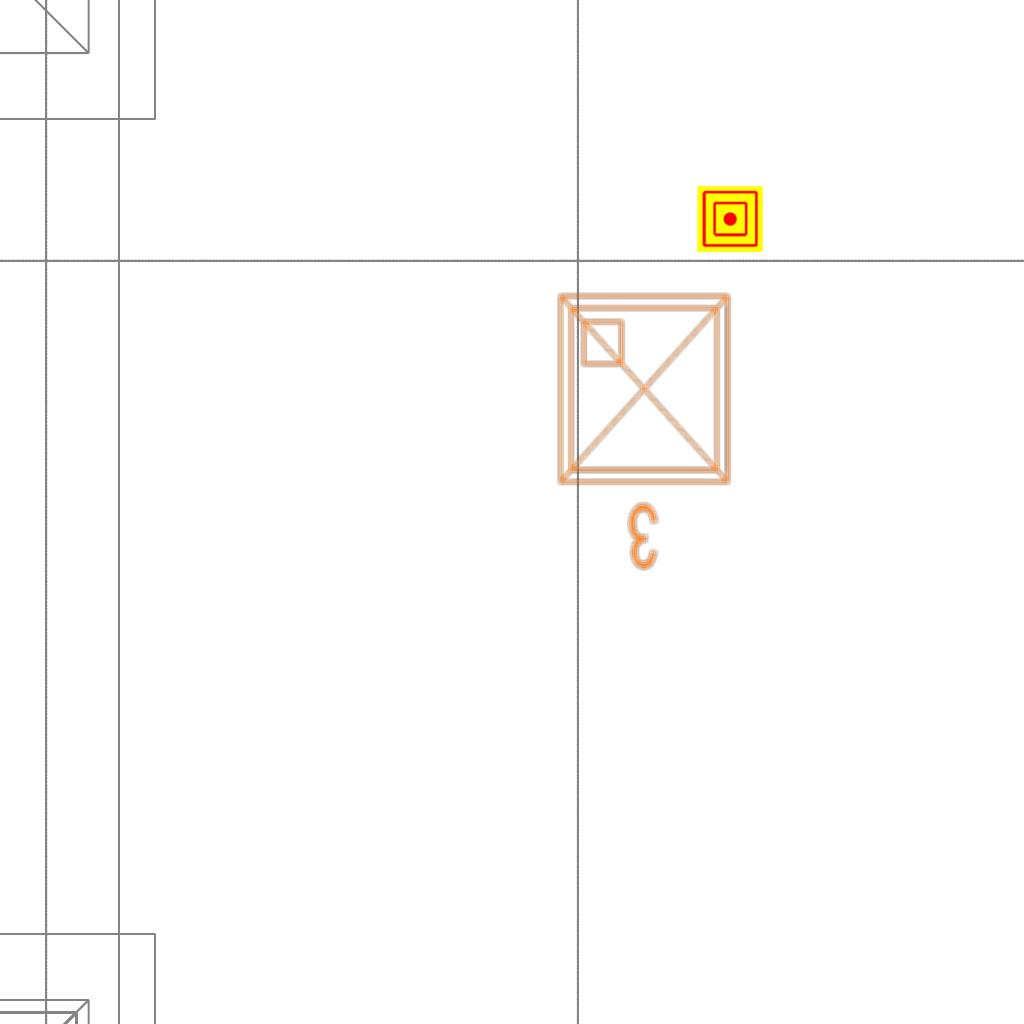Einbaudownlights_LED_Konferenzraeume: (544, 280, 752, 580)
NAM-Nichtautomatischer_Melder: (697, 186, 763, 252)
